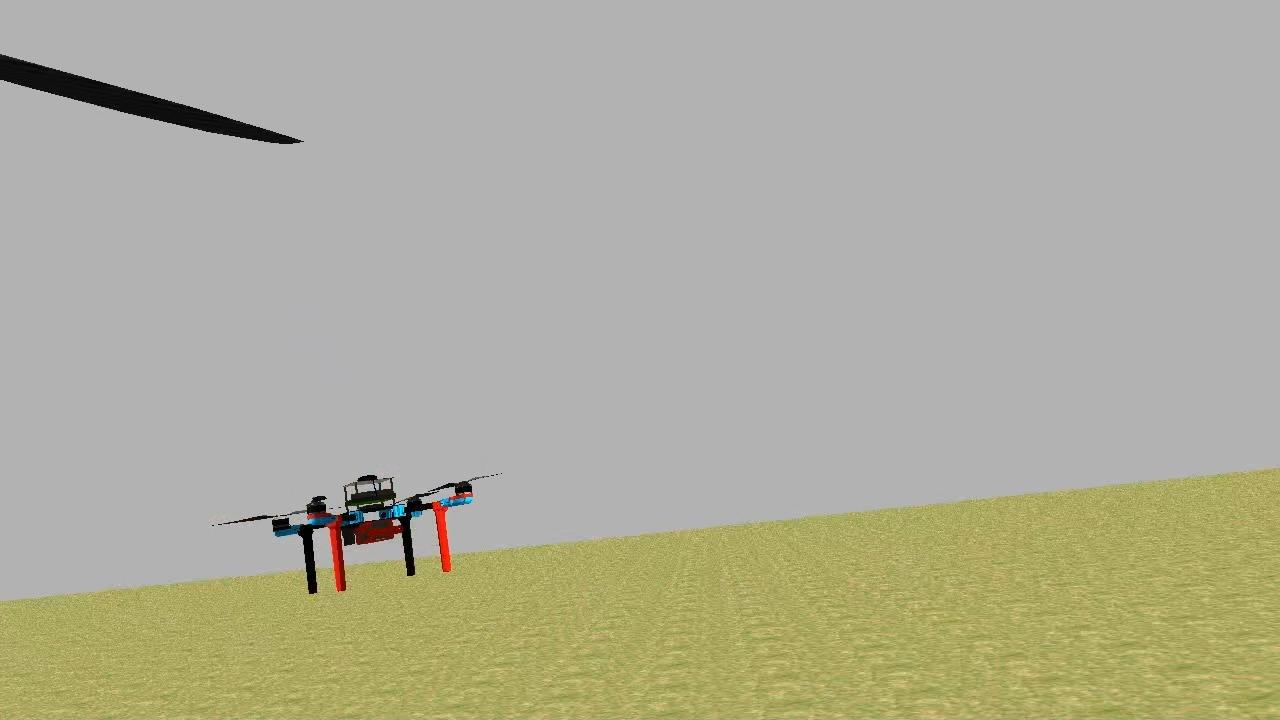UAV: (264, 464, 480, 602)
